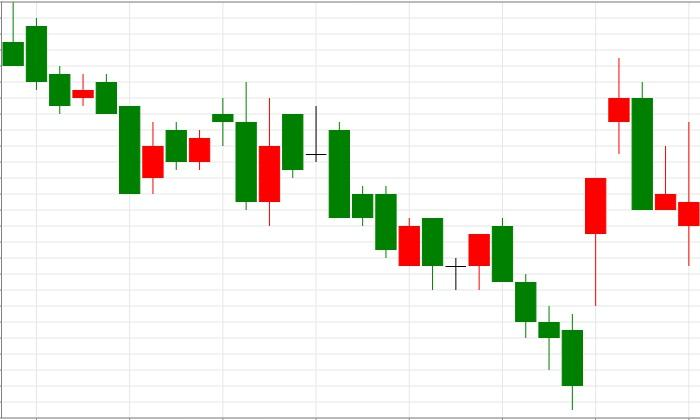bullish_engulfing_rise: (2, 1, 117, 115)
morning_star_rise: (281, 106, 491, 289)
